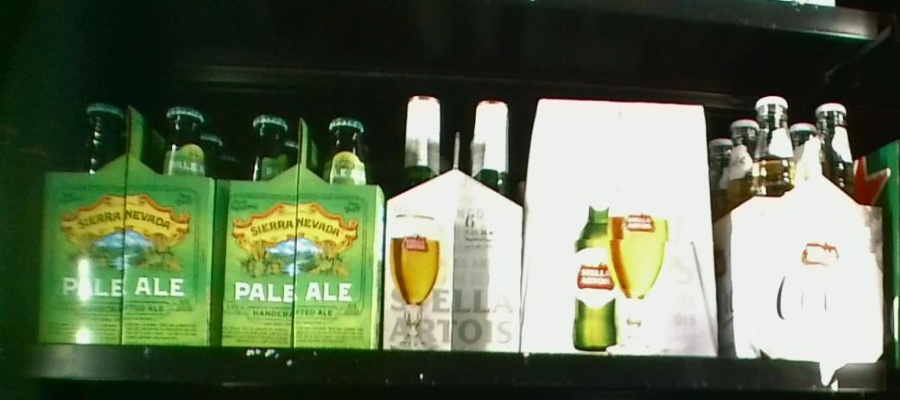bottle: (527, 95, 717, 353), (40, 101, 214, 343), (723, 93, 883, 351), (219, 101, 384, 343), (389, 91, 523, 350)
